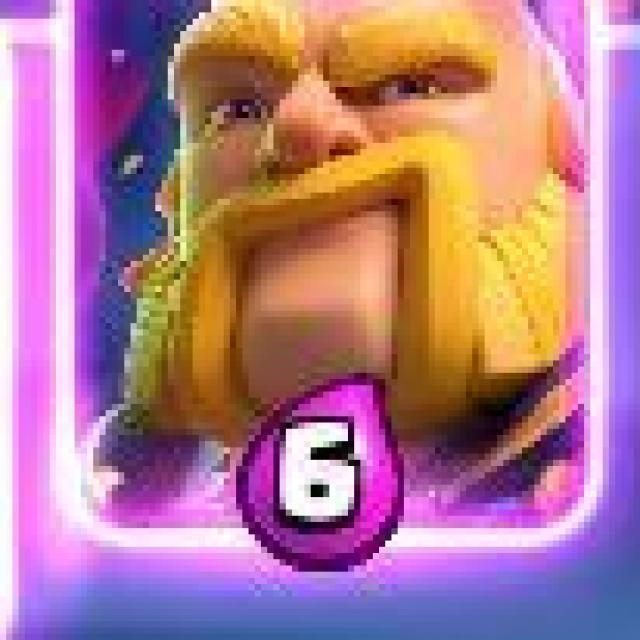Evolved_Royal_Giant: (50, 0, 602, 555)
